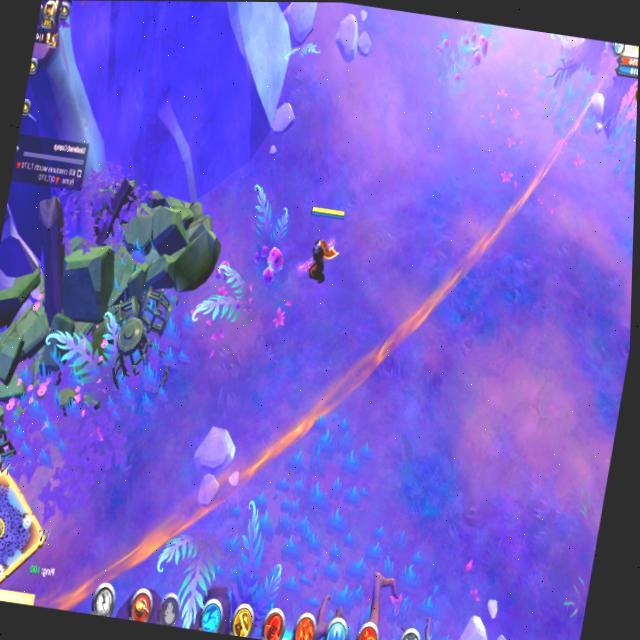red: (293, 197, 353, 293)
